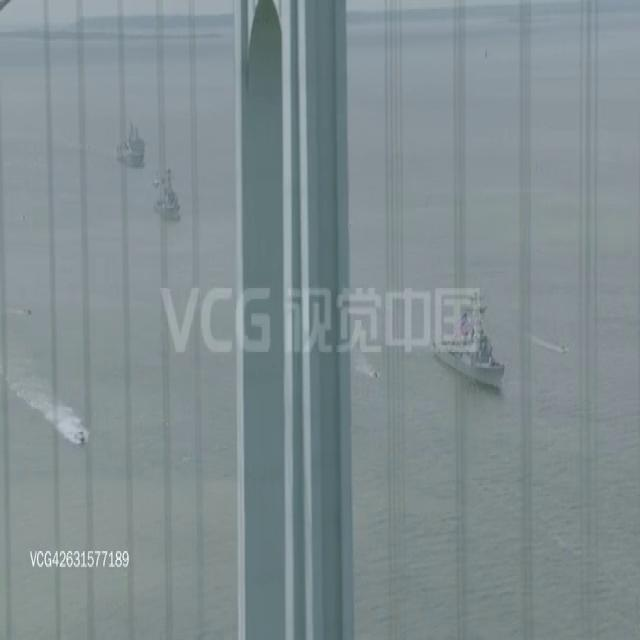houseboat: (70, 422, 91, 446), (368, 363, 379, 383), (559, 338, 568, 358), (26, 302, 31, 316)
navalvessels: (428, 288, 508, 384), (154, 164, 184, 224), (115, 120, 146, 168)
